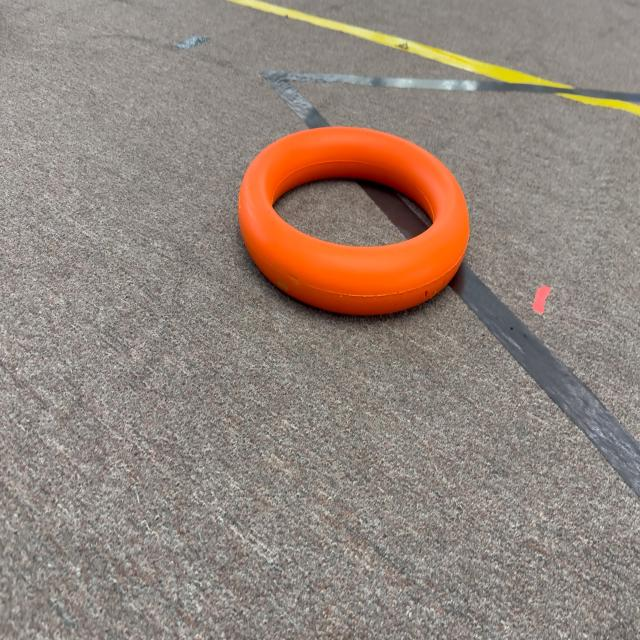note: (233, 118, 479, 330)
